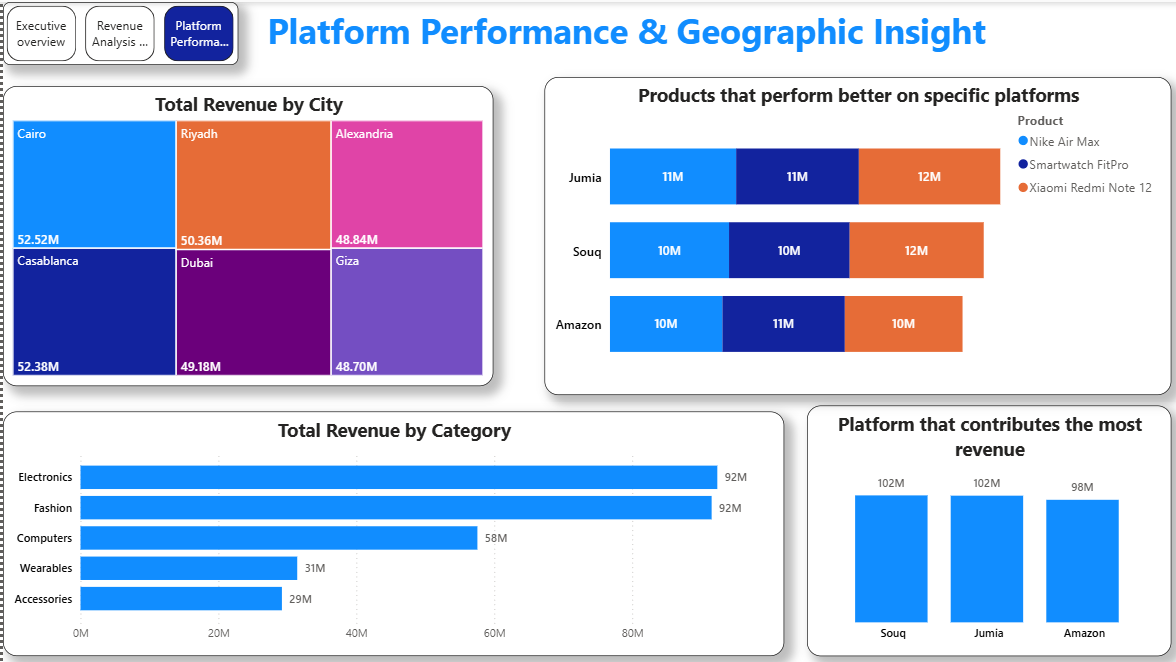

Layout of this report page (visuals, bound fields, positions):
{"tool":"powerbi","page":{"name":"Platform Performance + Geographic Insight","canvas":[1280,720],"ordinal":2},"visuals":[{"type":"columnChart","title":"Platform that contributes the most revenue","fields":{"Category":["EcommerceData.Platform"],"Y":["EcommerceData.Total Revenue"]},"box":[913.2,435.6,365.9,270.4],"z":0},{"type":"barChart","title":"Products that perform better on specific platforms","fields":{"Category":["EcommerceData.Platform"],"Series":["EcommerceData.Product"],"Y":["EcommerceData.Total Revenue"]},"box":[584.5,81,694.6,343.3],"z":1000},{"type":"barChart","fields":{"Category":["EcommerceData.City","EcommerceData.Category"],"Y":["EcommerceData.Total Revenue"]},"box":[0,442,903.5,263.9],"z":2000},{"type":"columnChart","fields":{"Category":["EcommerceData.City"],"Y":["EcommerceData.Total Revenue"]},"box":[0,90.7,529.5,323.8],"z":3000}]}

Visuals, with their boxes on the page's 1280x720 design canvas (x1, y1, x2, y2). These are canvas units, not pixel positions in the 1176x662 screenshot, which may show the page scaled, cropped or inside an application window:
"Platform that contributes the most revenue" columnChart: bbox=[913, 436, 1279, 706]
"Products that perform better on specific platforms" barChart: bbox=[584, 81, 1279, 424]
barChart - EcommerceData.City x EcommerceData.Category: bbox=[0, 442, 904, 706]
columnChart - EcommerceData.City x EcommerceData.Total Revenue: bbox=[0, 91, 530, 414]
